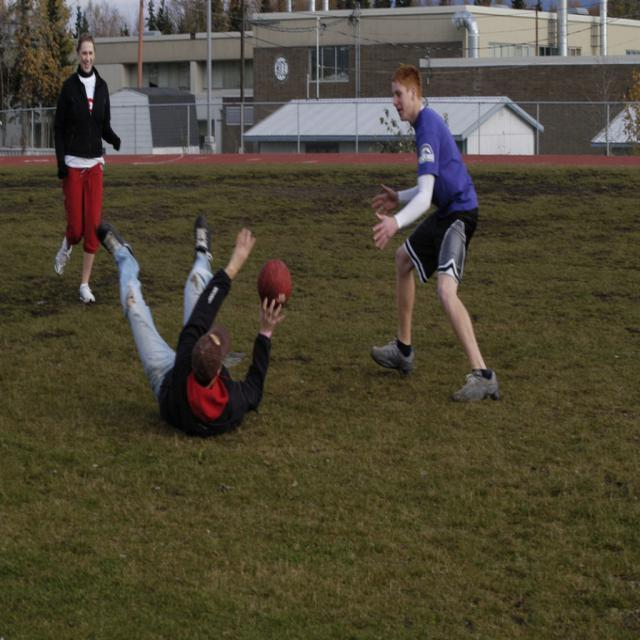ball: (259, 255, 293, 311)
